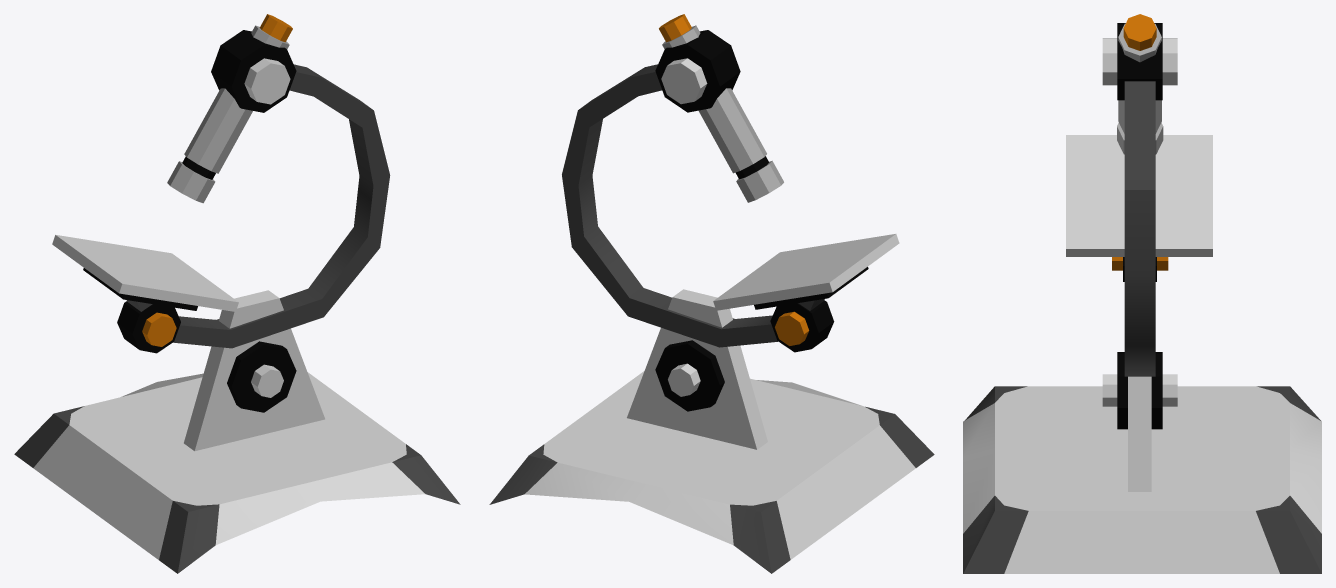
File: Microscopio_01.fbx
3 renders of one model, left to right at view 1: azimuth 30°, elevation 25°; view 2: azimuth 150°, elevation 25°; view 3: azimuth 270°, elevation 25°, orthographic. The views are drawn at different scales.
Visible parts, largest first — view 1: pCube41; view 2: pCube41; view 3: pCube41.
Part boxes in pixels (x1,y1,x2,y2): pCube41: (14, 14, 460, 573); pCube41: (489, 14, 934, 573); pCube41: (963, 14, 1321, 573).
Bounding box in the file's own units: 0.9612 × 1.41 × 0.9138.
